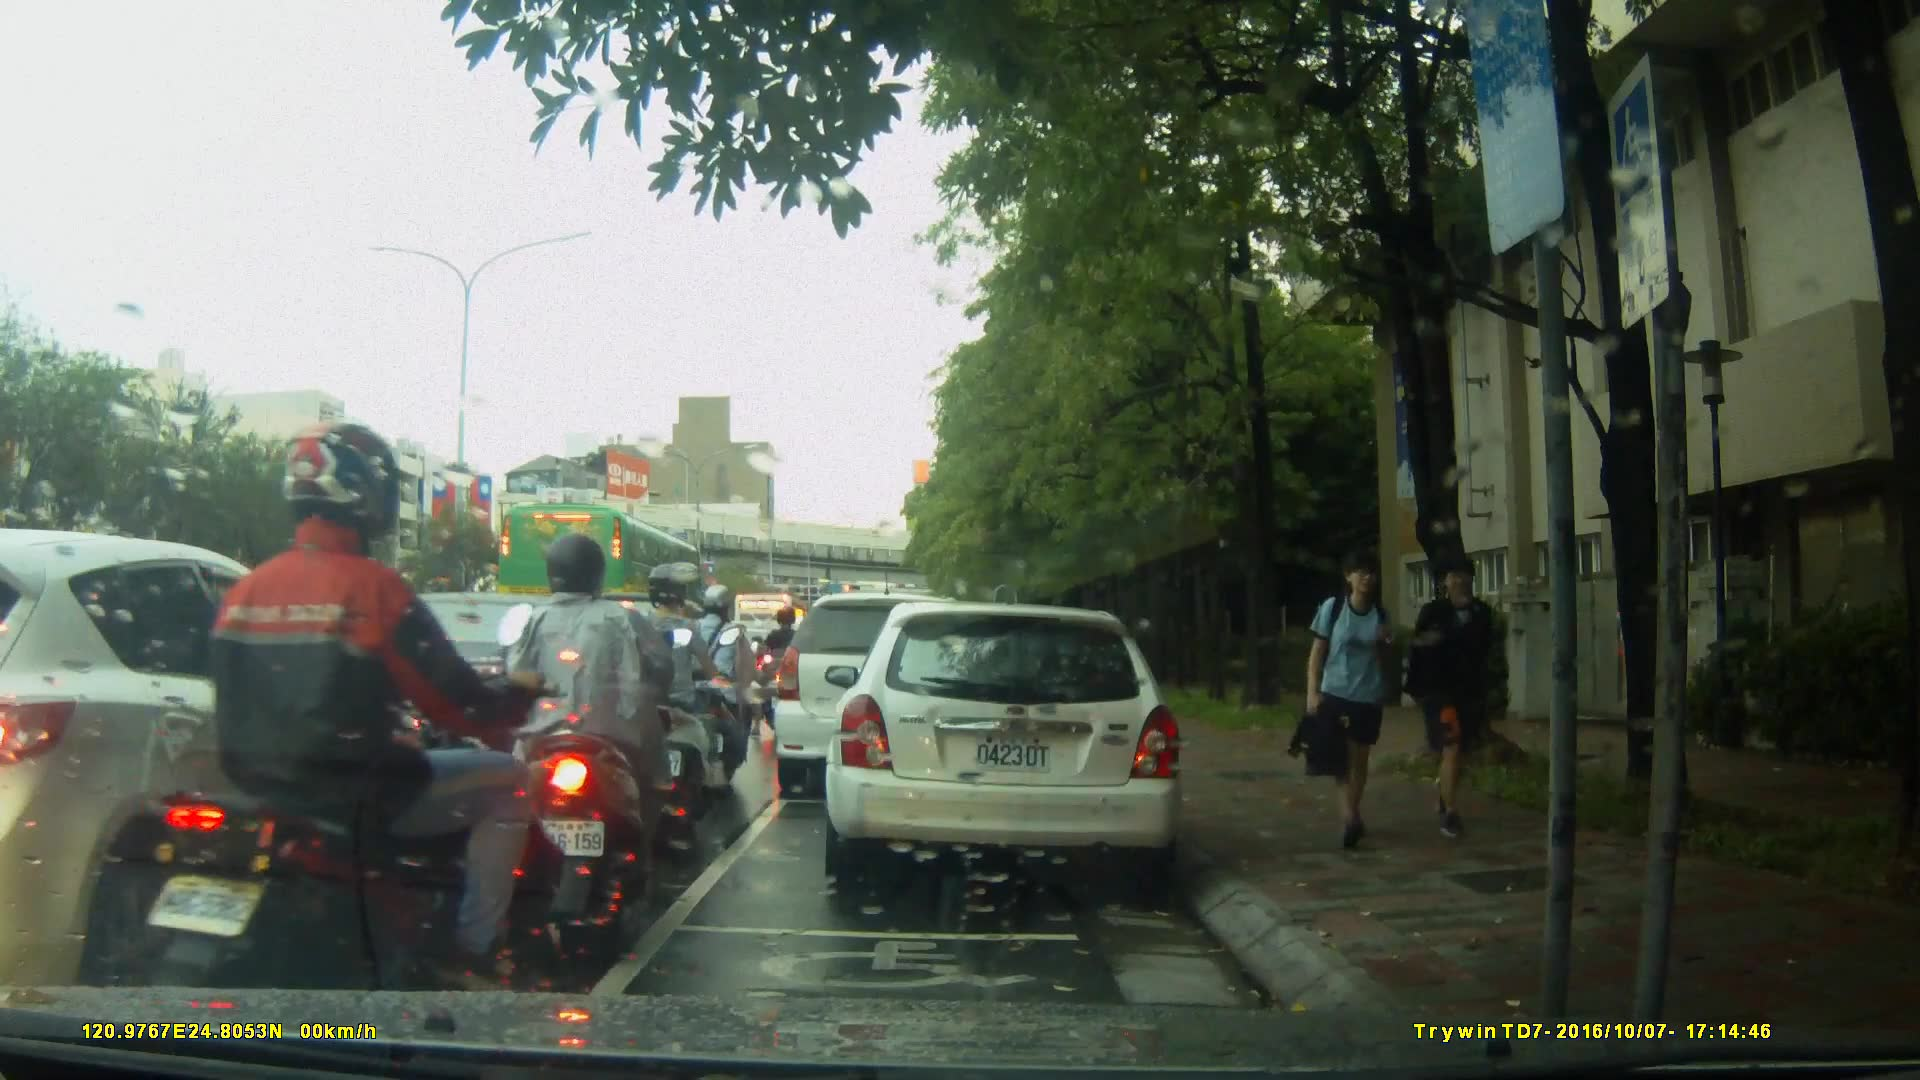pedestrian: (1289, 541, 1417, 851), (1419, 546, 1509, 842)
rider: (153, 418, 567, 1040), (500, 541, 695, 919), (615, 564, 726, 833), (682, 584, 759, 783), (760, 601, 805, 732)
vehicle: (1, 528, 452, 988), (831, 592, 1196, 897), (319, 590, 627, 787), (770, 590, 999, 803), (495, 501, 707, 636)
